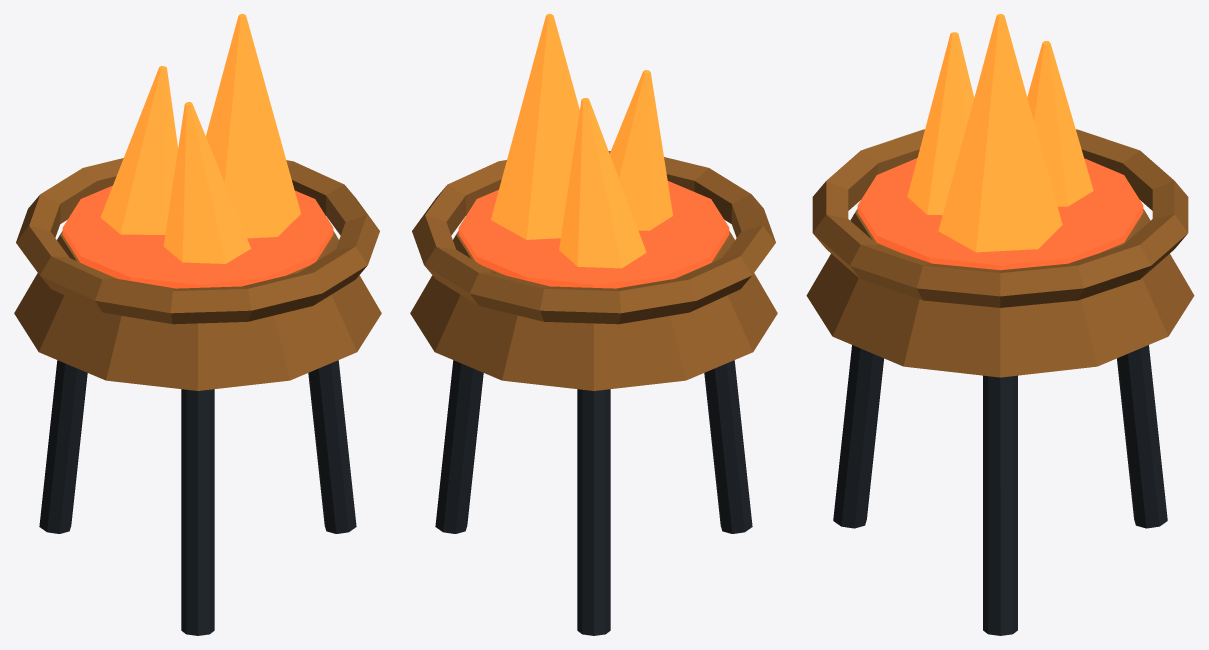
File: battle_signal_brazier_LOD1.glb
3 renders of one model, left to right at view 1: azimuth 30°, elevation 25°; view 2: azimuth 150°, elevation 25°; view 3: azimuth 270°, elevation 25°, orthographic. The views are drawn at different scales.
Parts seen in each view (by area): view 1: battle_signal_brazier_LOD1; view 2: battle_signal_brazier_LOD1; view 3: battle_signal_brazier_LOD1.
Part boxes in pixels (x1=…): battle_signal_brazier_LOD1: x1=14, y1=14, x2=381, y2=635; battle_signal_brazier_LOD1: x1=410, y1=14, x2=777, y2=635; battle_signal_brazier_LOD1: x1=806, y1=14, x2=1194, y2=635.
Size of the model in its own units: 1.44 by 2.32 by 1.44.
